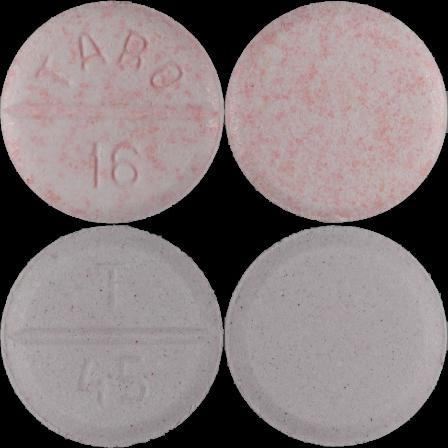51672-4041: (0, 0, 224, 224)
